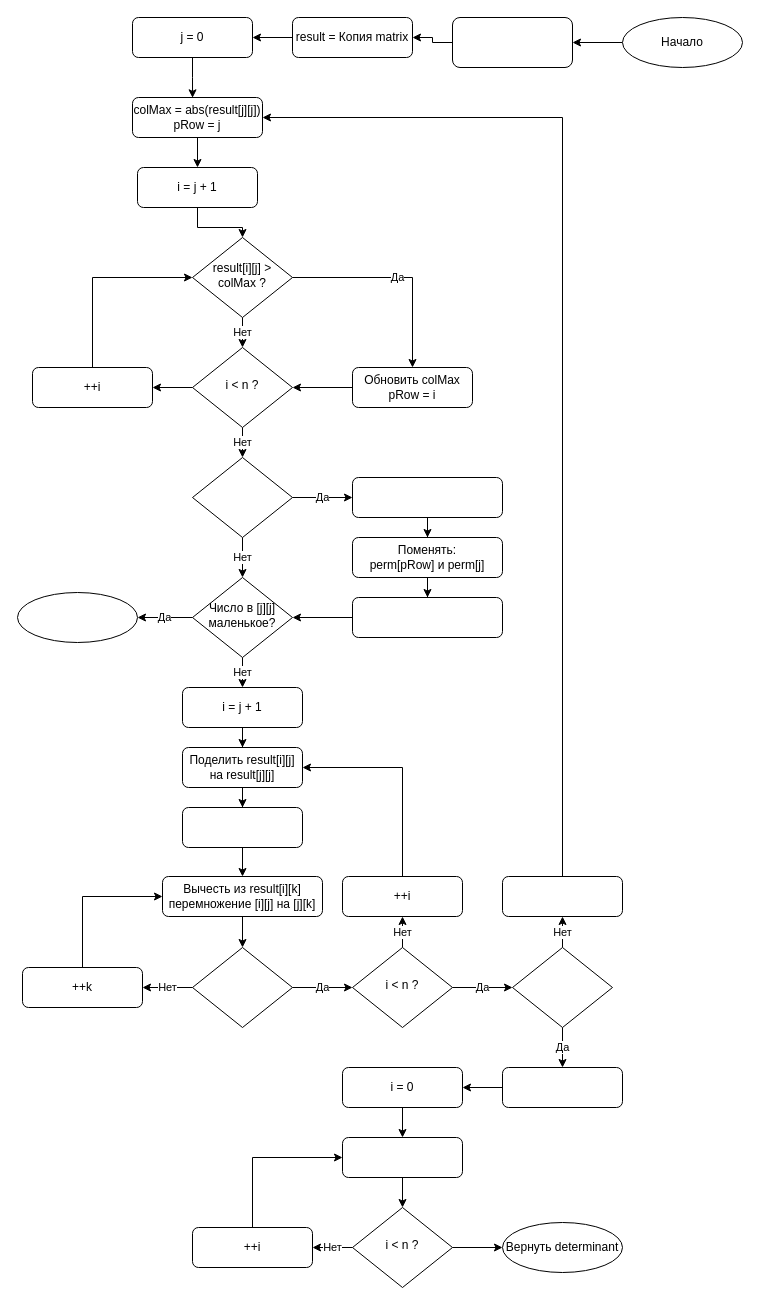
Image size: 760x1305. Some labels were removed from this diagram. Each missing label, with the box of its shape:
++j: (502, 876, 622, 916)
determinant *= [i][i]: (342, 1136, 462, 1178)
determinant = toggle: (502, 1066, 622, 1108)
j < n - 1 ?: (512, 946, 612, 1028)
k < n ?: (192, 946, 292, 1028)
k = j + 1: (182, 806, 302, 848)
matrix perm = [1..n] toggle = 1: (452, 16, 572, 68)
pRow != j ?: (192, 456, 292, 538)
Вернуть 0: (16, 592, 138, 642)
Поменять: result[pRow] и result[j]: (352, 476, 502, 518)
Поменять: toggle: (352, 596, 502, 638)
